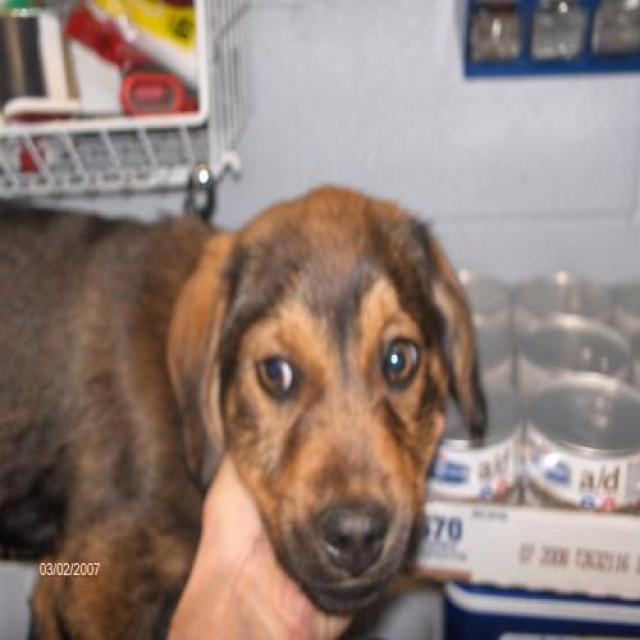Dogs: (0, 181, 488, 638)
